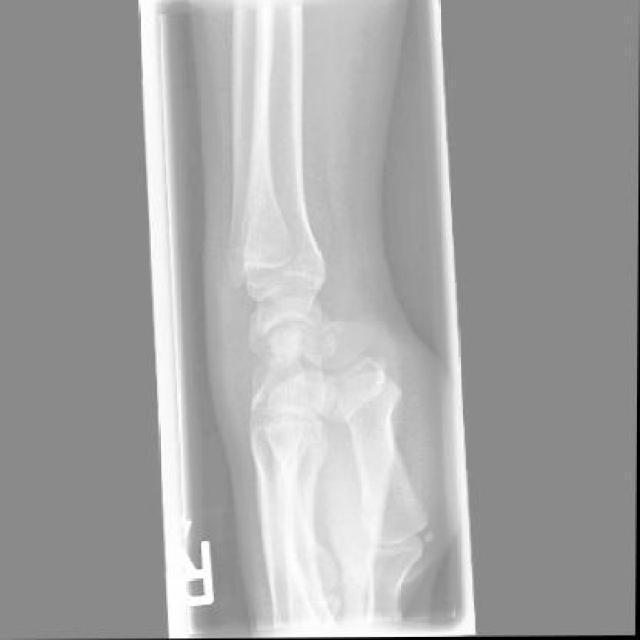Fracture: (254, 320, 344, 410)
